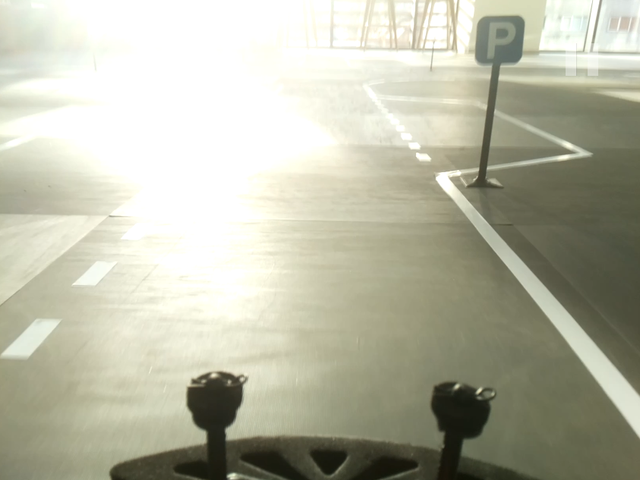parking: (475, 16, 524, 65)
